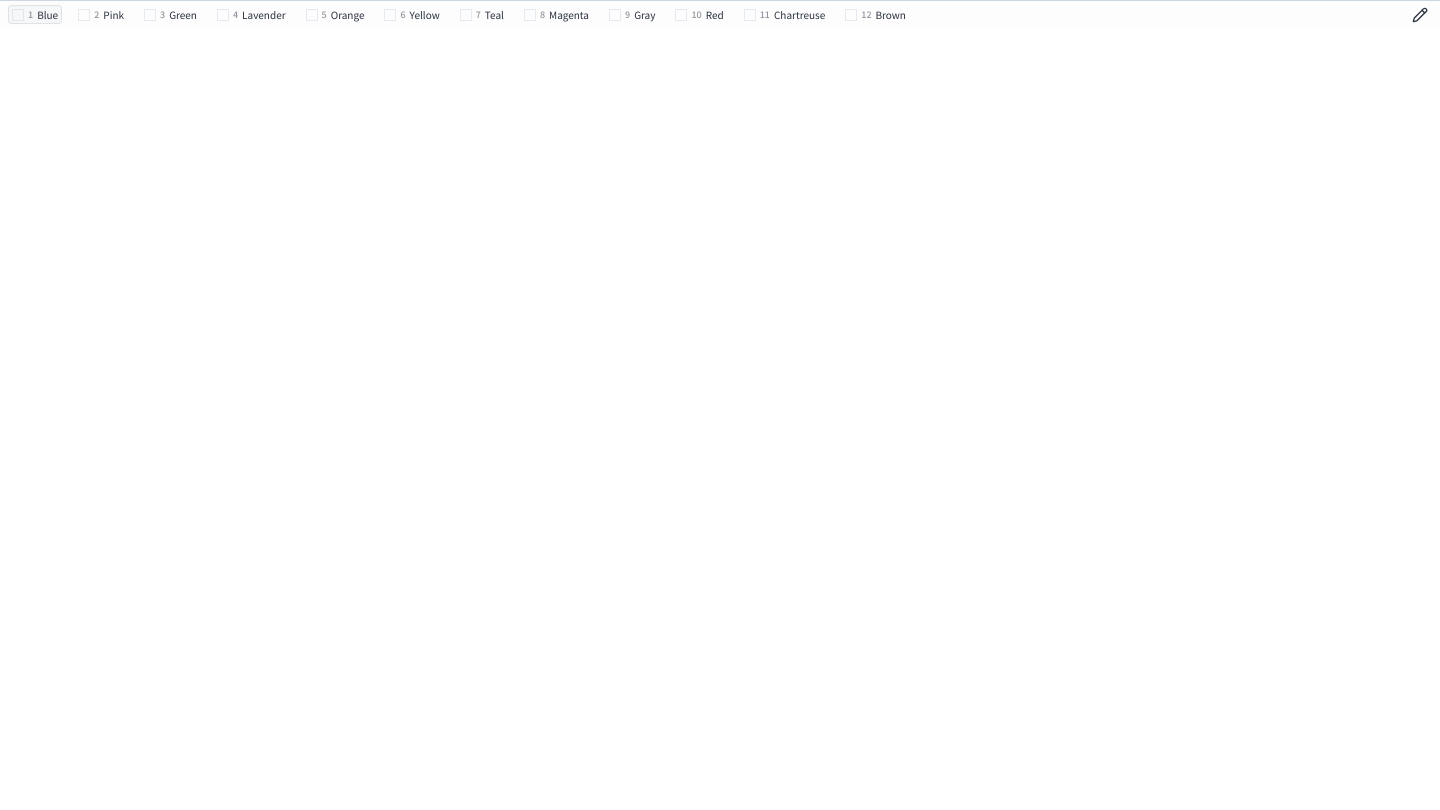
Scenario: renaming from the weekly strip › opens the dialog from the strip
What coordinates should you click on to do the following:
click the button named "rename colour tags"
I would click on:
 (1420, 14)
Its box is [1408,2,1432,26].
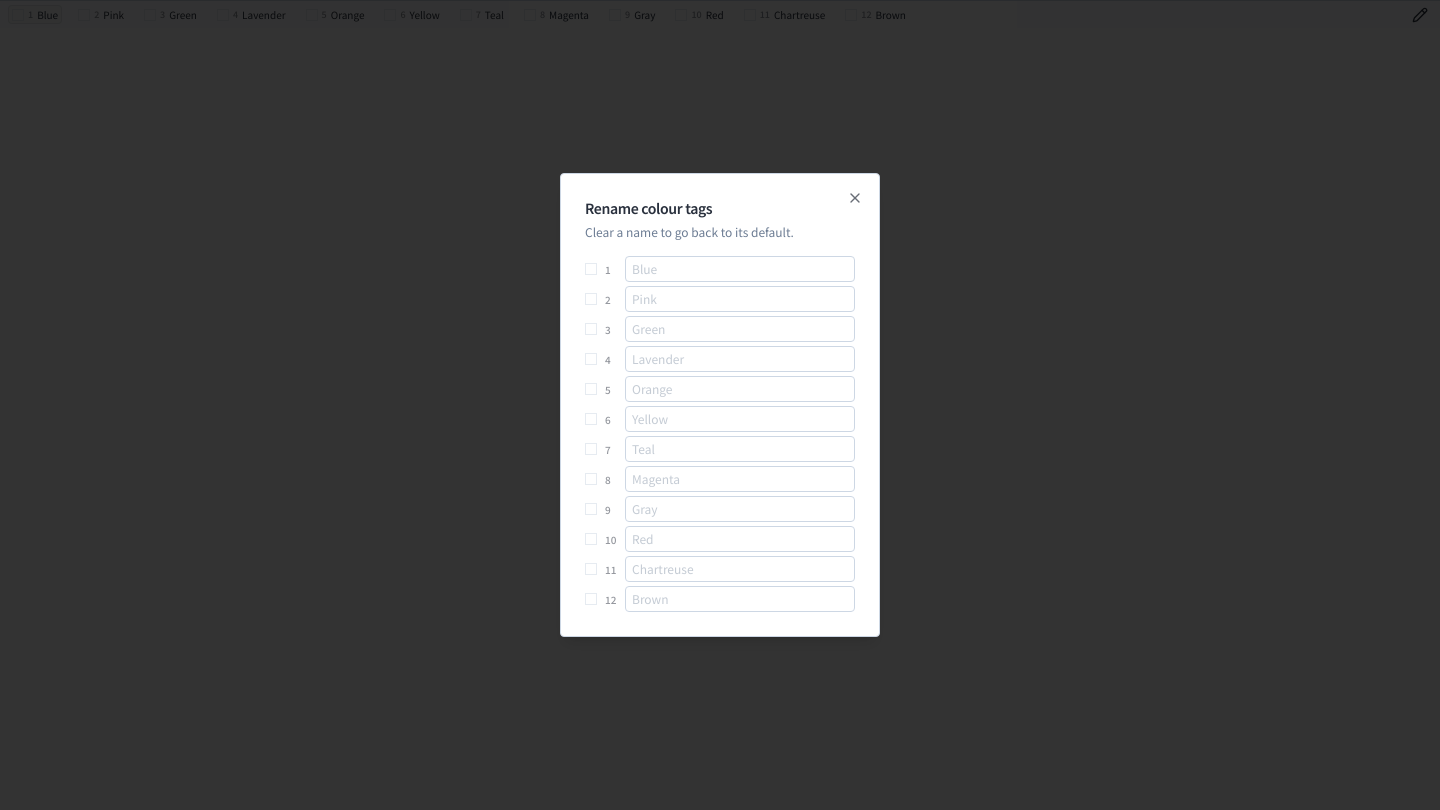
Now the field named "rename gray" is shown, box [625,496,855,522]
